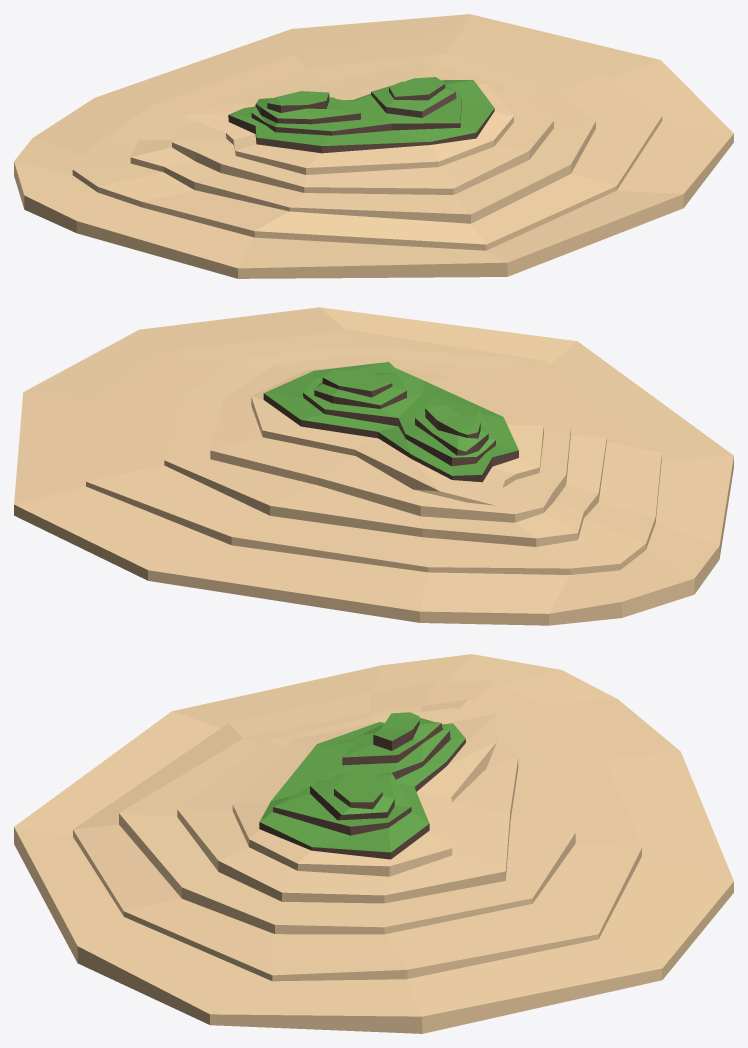
Rendered from is_4_sable.fbx.
3 renders of one model, top to bottom at view 1: azimuth 30°, elevation 25°; view 2: azimuth 150°, elevation 25°; view 3: azimuth 270°, elevation 25°, orthographic. The views are drawn at different scales.
Parts seen in each view (by area): view 1: Plan; view 2: Plan; view 3: Plan.
Boxes of the visible parts, x1,y1,x2,y2 form: Plan: (14, 14, 733, 278); Plan: (14, 307, 733, 625); Plan: (14, 654, 733, 1033).
Size of the model in its own units: 1952 by 227 by 1638.
